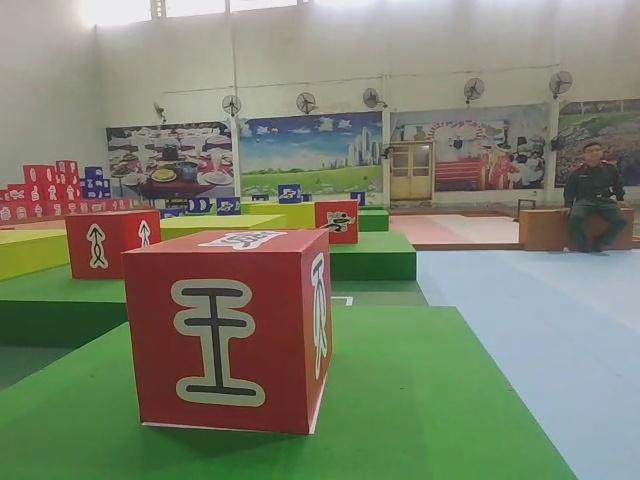R1: (312, 198, 362, 248)
R2 Fake: (119, 225, 336, 438)
R2 Real: (63, 206, 165, 283)
